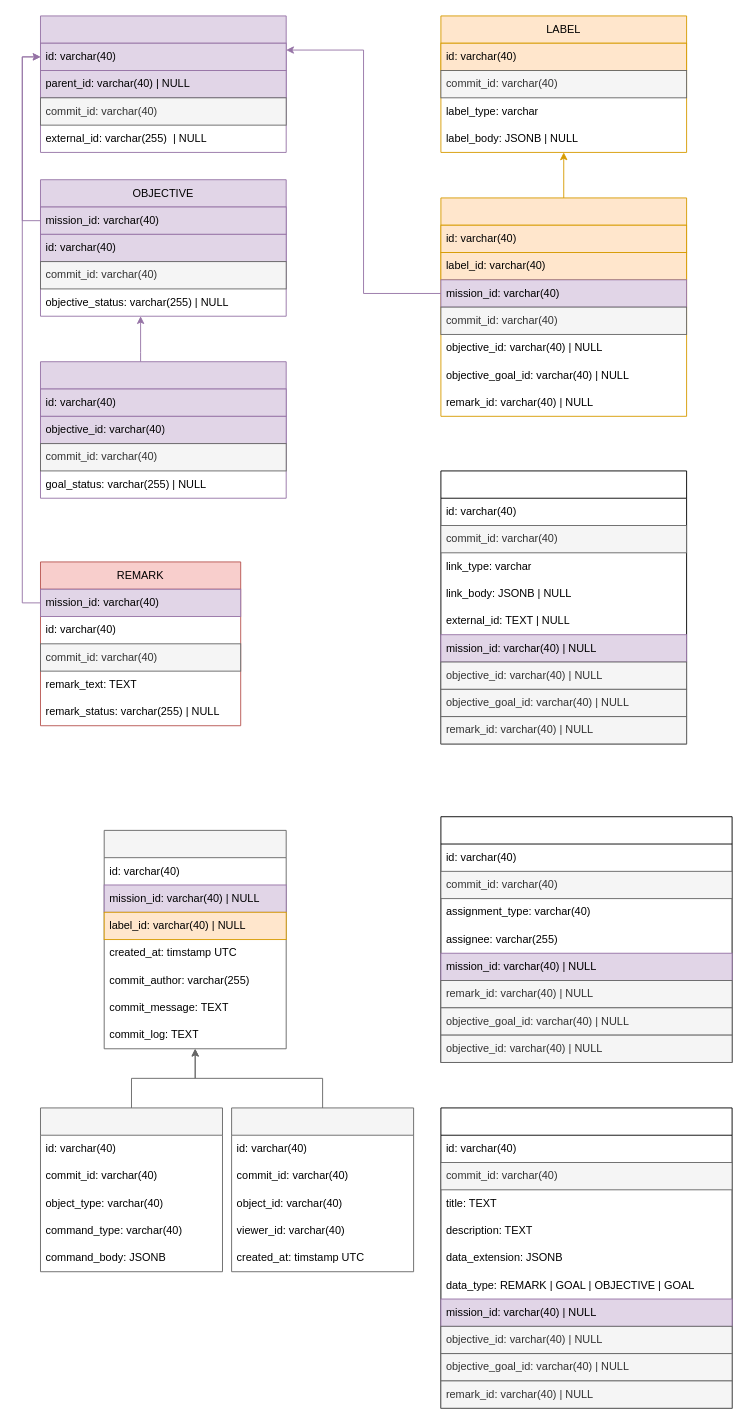
This 748x1424 diagram has some shape labels left out. The box of each missing label's shape, as (x1, y1, x2, y2) in pixels:
MISSION: (40, 15, 286, 152)
MISSION_ASSIGNMENT: (440, 816, 732, 1062)
MISSION_COMMIT: (103, 829, 286, 1049)
MISSION_COMMIT_TREE: (40, 1107, 222, 1272)
MISSION_COMMIT_VIEWER: (231, 1107, 414, 1272)
MISSION_DATA: (440, 1107, 732, 1408)
MISSION_LABEL: (440, 197, 687, 416)
MISSION_LINKS: (440, 470, 687, 744)
OBJECTIVE_GOAL: (40, 361, 286, 498)
